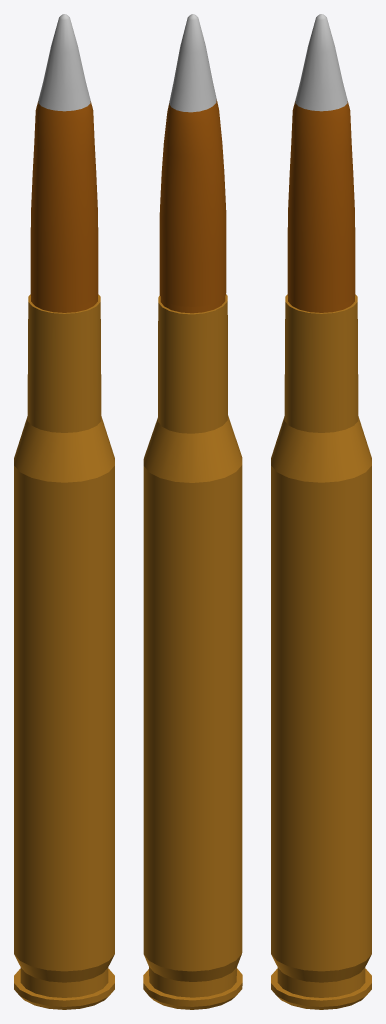
The model's file is bala barret.FBX.
3 renders of one model, left to right at view 1: azimuth 90°, elevation 25°; view 2: azimuth 150°, elevation 25°; view 3: azimuth 270°, elevation 25°, orthographic.
Visible parts, largest first — view 1: Cylinder001, Object, Object002; view 2: Cylinder001, Object, Object002; view 3: Cylinder001, Object, Object002.
Part boxes in pixels (x1,y1,x2,y2): Cylinder001: [14, 294, 114, 1009]; Object: [30, 101, 98, 312]; Object002: [38, 14, 90, 111]; Cylinder001: [143, 294, 242, 1009]; Object: [159, 99, 226, 313]; Object002: [169, 14, 216, 112]; Cylinder001: [271, 294, 371, 1009]; Object: [287, 101, 355, 312]; Object002: [295, 14, 347, 111].
Size of the model in its own units: 1.22 by 13.07 by 1.22.
